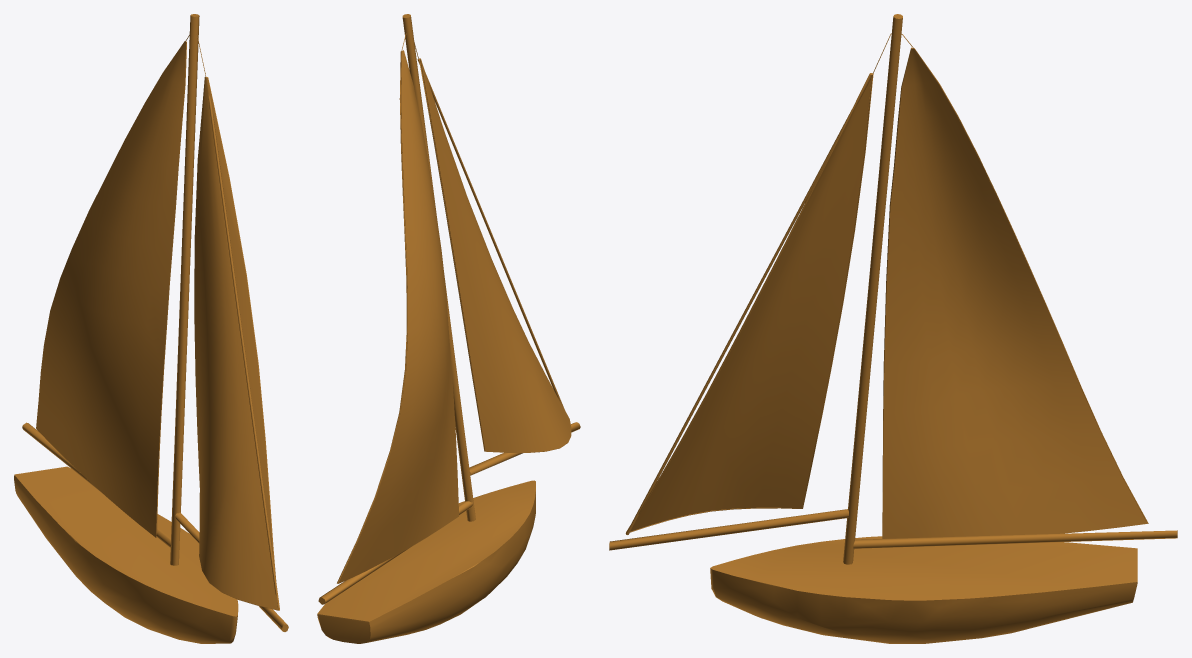
File: Ship.FBX
The picture shows the model from 3 angles, left to right: view 1: azimuth 30°, elevation 25°; view 2: azimuth 150°, elevation 25°; view 3: azimuth 270°, elevation 25°; orthographic projection. The views are drawn at different scales.
Visible parts, largest first — view 1: ship; view 2: ship; view 3: ship.
Boxes of the visible parts, left/top/right/bottom form: ship: left=14, top=14, right=288, bottom=643; ship: left=317, top=14, right=580, bottom=643; ship: left=609, top=14, right=1177, bottom=643.
Size of the model in its own units: 8.82 by 47.47 by 37.95.
